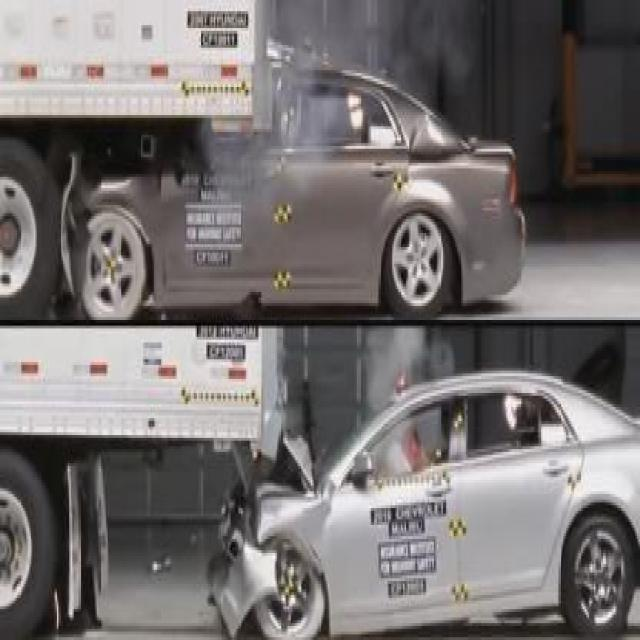accident: (0, 322, 638, 634), (3, 0, 542, 312)
